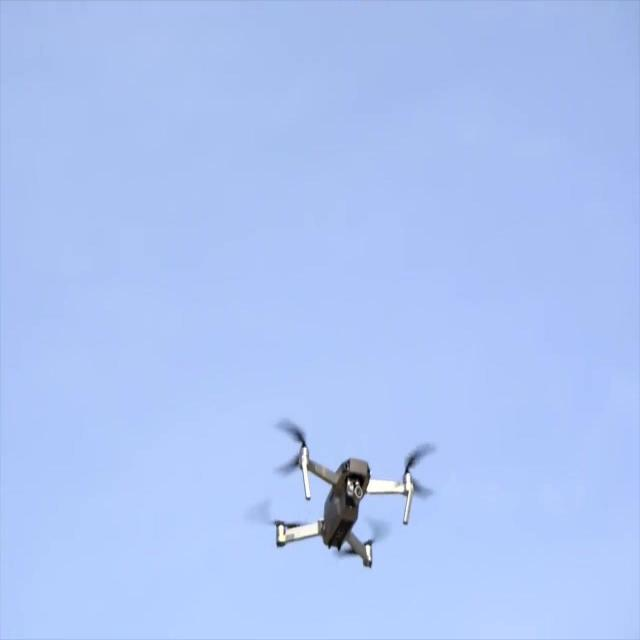UAV: (249, 418, 439, 570)
